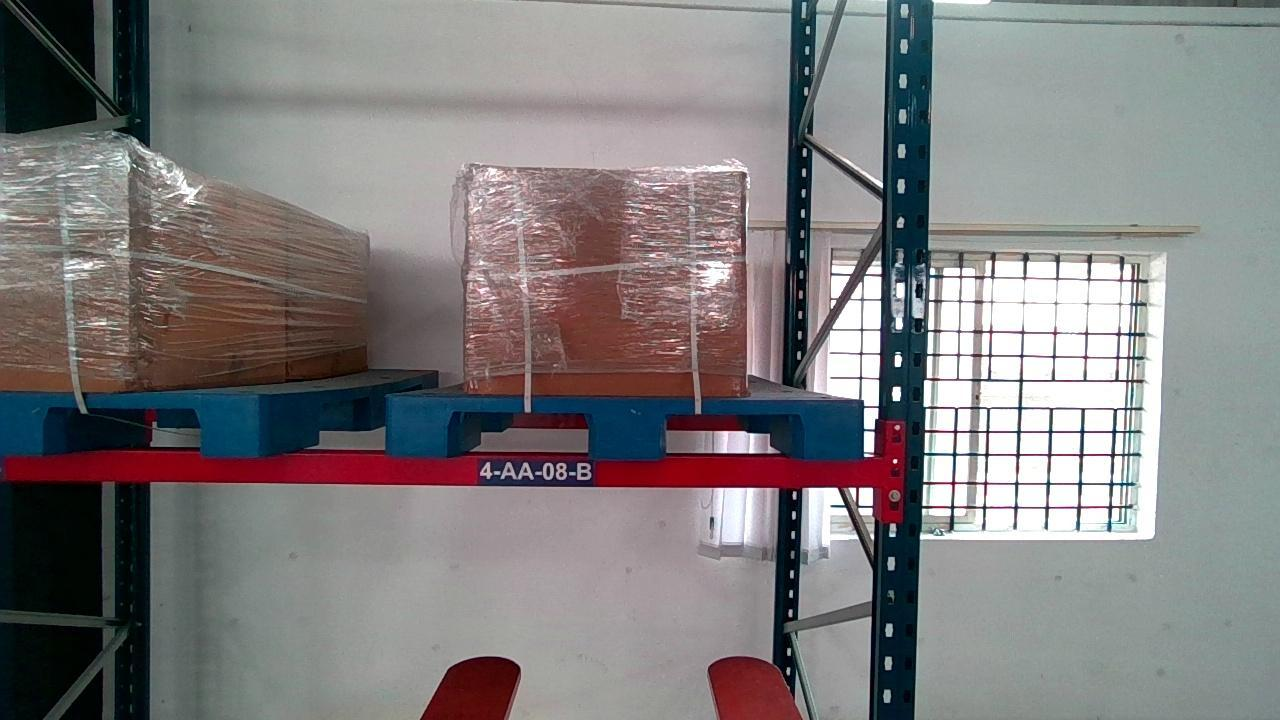h_rack: (2, 450, 883, 488)
small_pallet: (388, 395, 869, 456), (0, 394, 264, 455)
